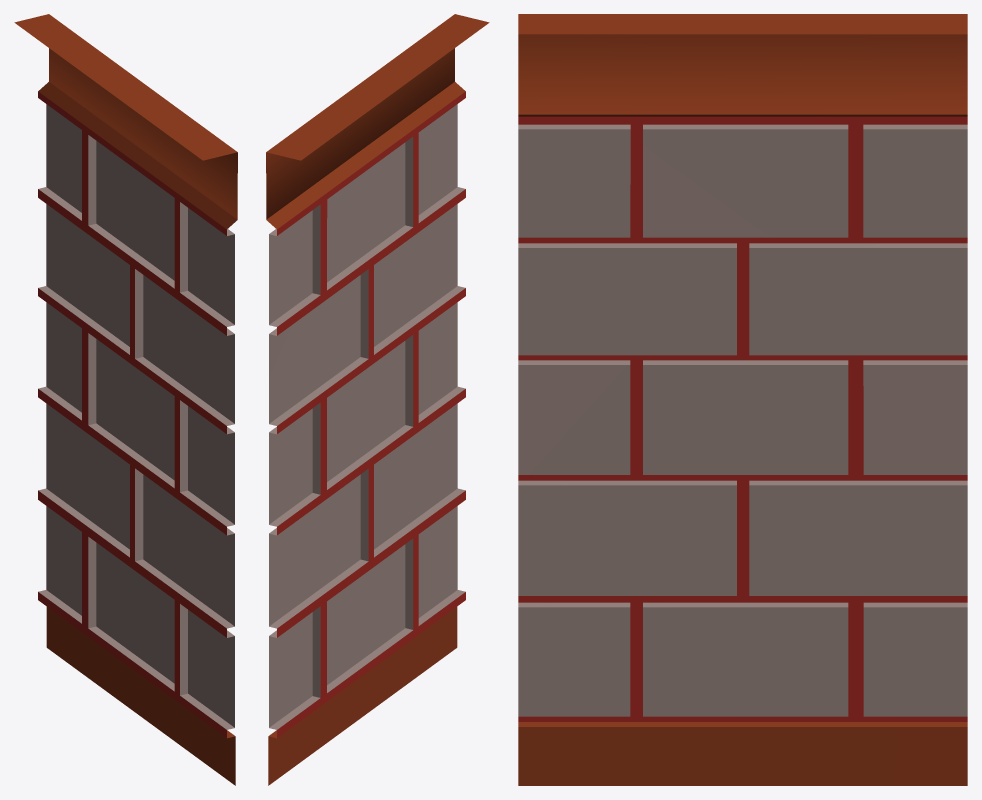
The model's file is g_t_WorkshopWall.fbx.
3 views of the same model, side by side, from view 1: azimuth 30°, elevation 25°; view 2: azimuth 150°, elevation 25°; view 3: azimuth 270°, elevation 25° (orthographic). The views are drawn at different scales.
Visible parts, largest first — view 1: g_t_WorkshopWall; view 2: g_t_WorkshopWall; view 3: g_t_WorkshopWall.
Part boxes in pixels (box(x1,y1,x2,y2)): g_t_WorkshopWall: box(14, 14, 237, 785); g_t_WorkshopWall: box(266, 14, 489, 785); g_t_WorkshopWall: box(518, 14, 967, 785).
Size of the model in its own units: 10.65 by 185 by 100.
